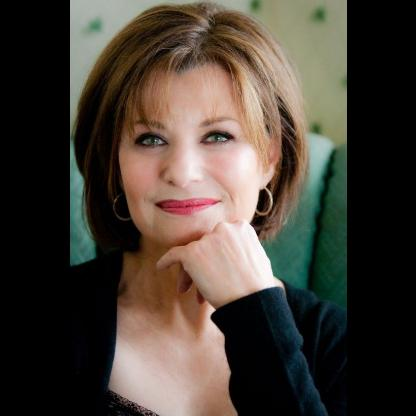Female: (118, 60, 278, 244)
